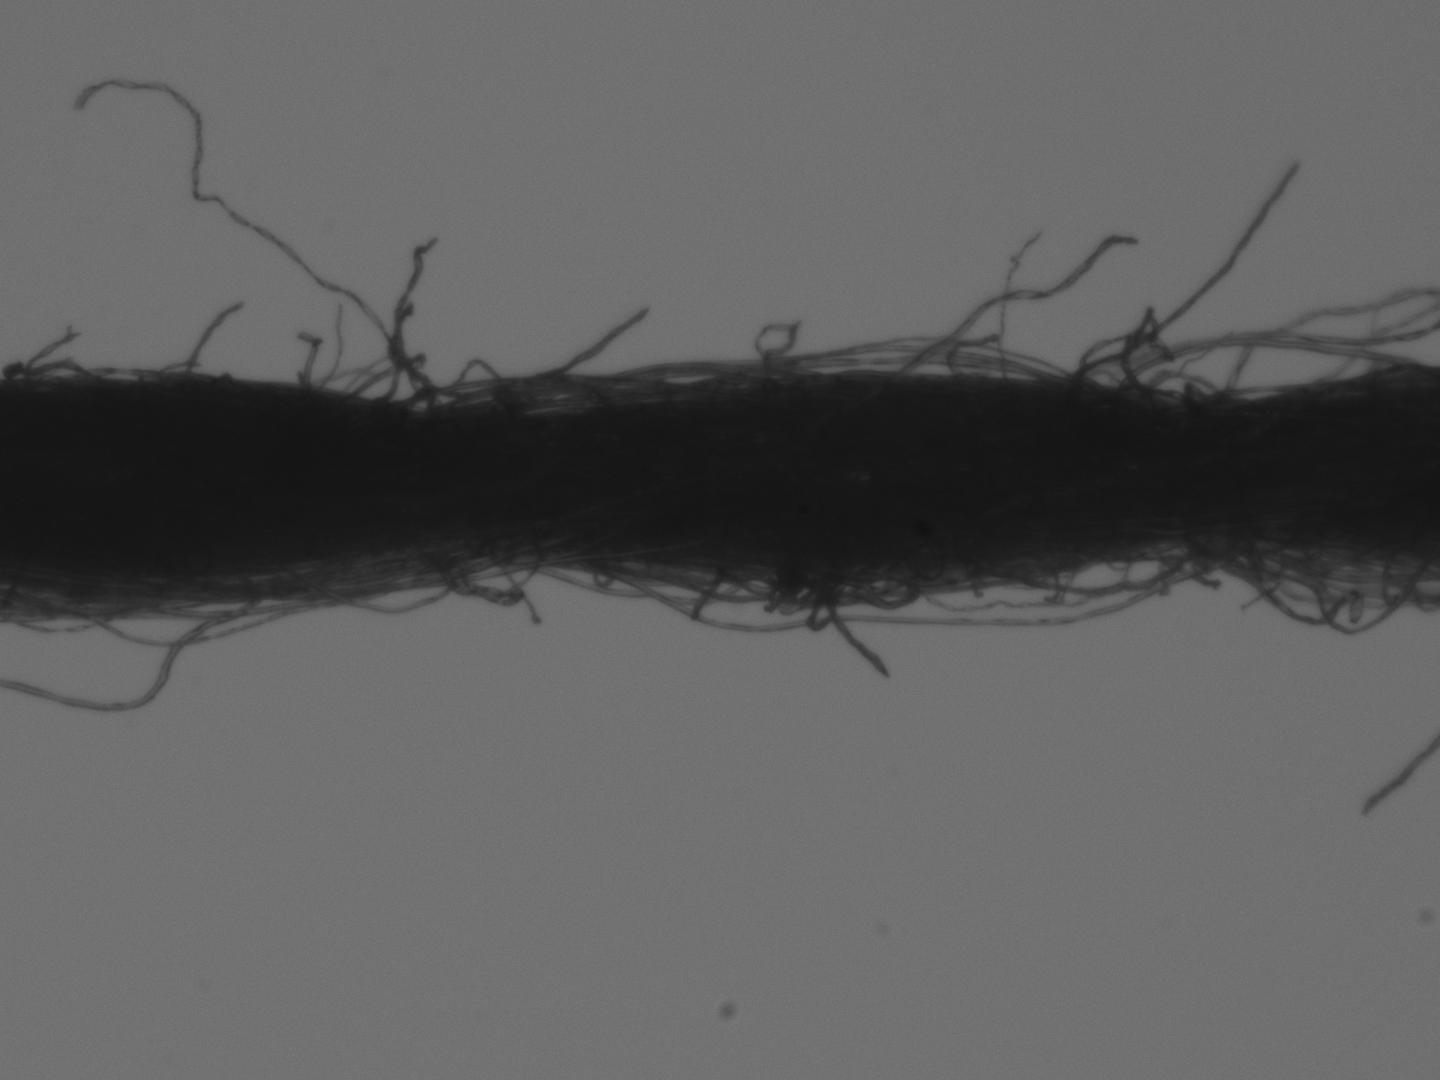loop_fiber: (1212, 539, 1423, 636), (711, 563, 914, 638), (983, 534, 1201, 602), (390, 353, 608, 415), (420, 541, 541, 606), (1141, 364, 1218, 407), (2, 353, 101, 381)
protruding_fiber: (1067, 157, 1297, 390), (173, 295, 246, 377)
